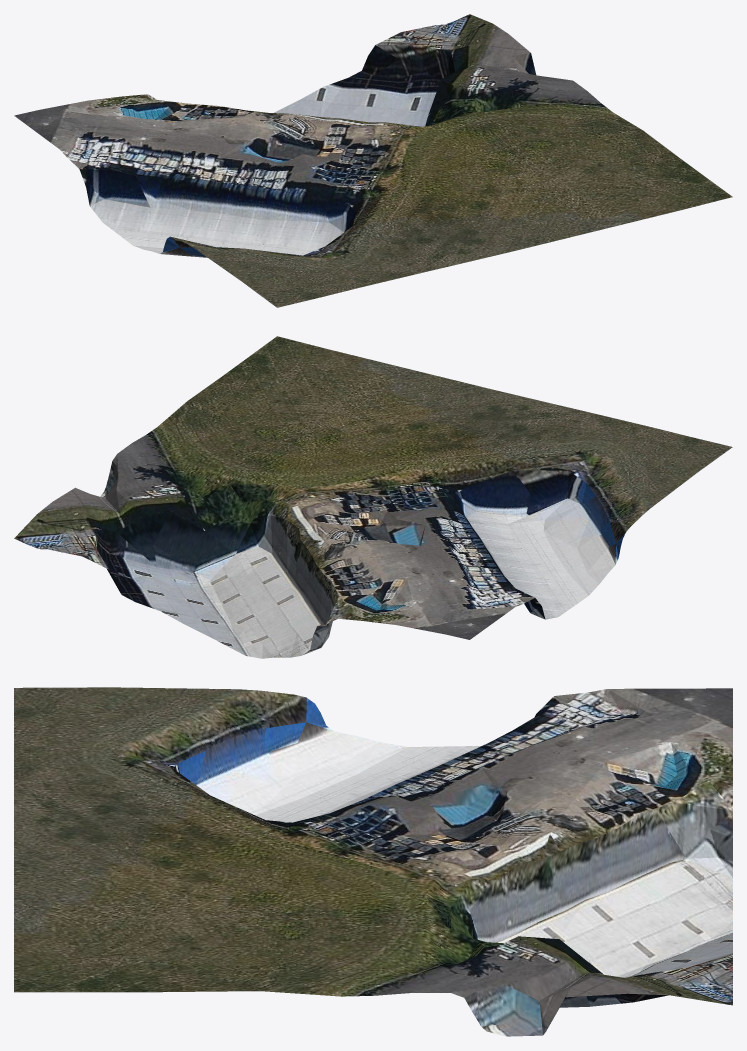
File: map_15_8184_13782.dae
The picture shows the model from 3 angles, top to bottom: view 1: azimuth 30°, elevation 25°; view 2: azimuth 150°, elevation 25°; view 3: azimuth 270°, elevation 25°; orthographic projection. The views are drawn at different scales.
Visible parts, largest first — view 1: Ter0; view 2: Ter0; view 3: Ter0.
Boxes of the visible parts, x1=… form: Ter0: x1=14, y1=14, x2=732, y2=307; Ter0: x1=14, y1=336, x2=732, y2=658; Ter0: x1=14, y1=687, x2=732, y2=1036.
Size of the model in its own units: 63.88 by 63.88 by 9.56.
2 materials, 2 textured.
